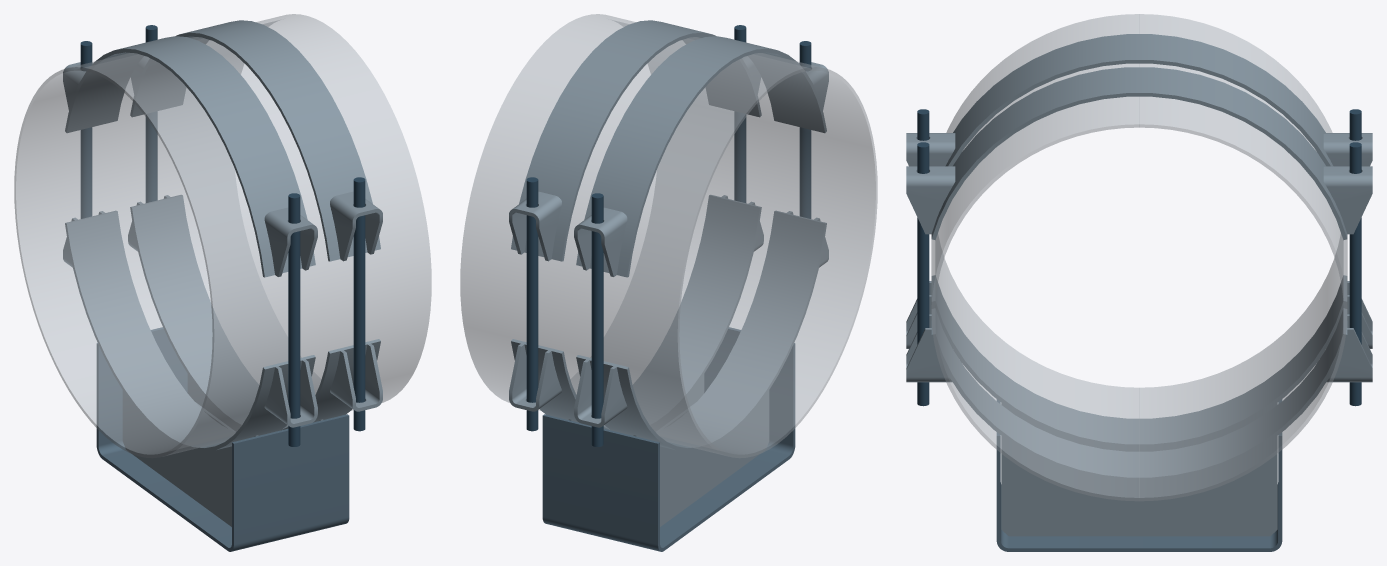
The model's file is TS-627.00.000-041-opora-dn1020-H200-L340.glb.
The picture shows the model from 3 angles, left to right: view 1: azimuth 30°, elevation 25°; view 2: azimuth 150°, elevation 25°; view 3: azimuth 270°, elevation 25°; orthographic projection. The views are drawn at different scales.
Parts seen in each view (by area): view 1: truba, skoba_0, podushka_4, bugel0_podushka_0, podushka_5, bugel1_podushka_0, rebro4_1, shpilka_0_-1, shpilka_1_-1, bugel0_ushko_2, bugel1_ushko_2, ushko_9 (+5 smaller); view 2: truba, skoba_0, podushka_4, bugel0_podushka_0, podushka_5, bugel1_podushka_0, rebro4_1, shpilka_0_1, shpilka_1_1, bugel0_ushko_1, bugel1_ushko_1, ushko_8 (+5 smaller); view 3: truba, rebro4_2, podushka_5, podushka_4, bugel1_podushka_0, bugel0_podushka_0, skoba_0, bugel1_ushko_1, bugel1_ushko_2, shpilka_1_1, shpilka_1_-1, ushko_8 (+4 smaller).
Part boxes in pixels (x1,y1,x2,y2): truba: (14, 14, 431, 458); skoba_0: (96, 327, 349, 551); podushka_4: (65, 210, 315, 451); bugel0_podushka_0: (65, 36, 315, 277); podushka_5: (130, 195, 380, 430); bugel1_podushka_0: (130, 20, 380, 261); rebro4_1: (122, 390, 258, 526); shpilka_0_-1: (288, 193, 300, 446); shpilka_1_-1: (353, 177, 365, 431); bugel0_ushko_2: (264, 207, 317, 276); bugel1_ushko_2: (330, 191, 382, 261); ushko_9: (330, 343, 382, 411); truba: (460, 14, 877, 458); skoba_0: (542, 327, 795, 551); podushka_4: (576, 210, 826, 451); bugel0_podushka_0: (576, 36, 826, 277); podushka_5: (511, 195, 761, 430); bugel1_podushka_0: (511, 20, 761, 261); rebro4_1: (633, 390, 769, 526); shpilka_0_1: (591, 193, 603, 446); shpilka_1_1: (526, 177, 538, 431); bugel0_ushko_1: (574, 207, 627, 276); bugel1_ushko_1: (509, 191, 561, 261); ushko_8: (509, 343, 561, 411); truba: (931, 14, 1347, 501); rebro4_2: (1001, 436, 1277, 536); podushka_5: (931, 308, 1347, 481); podushka_4: (931, 275, 1347, 447); bugel1_podushka_0: (931, 67, 1347, 240); bugel0_podushka_0: (945, 34, 1333, 166); skoba_0: (996, 399, 1282, 551); bugel1_ushko_1: (1323, 166, 1372, 234); bugel1_ushko_2: (906, 166, 955, 234); shpilka_1_1: (1349, 142, 1361, 406); shpilka_1_-1: (917, 142, 929, 406); ushko_8: (1327, 314, 1372, 382).
Size of the model in its own units: 640 by 1242 by 1144.
